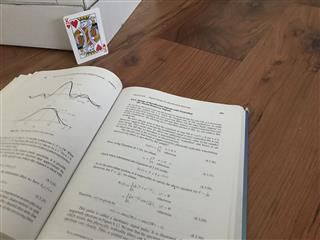KingOfHearts: (62, 7, 109, 64)
